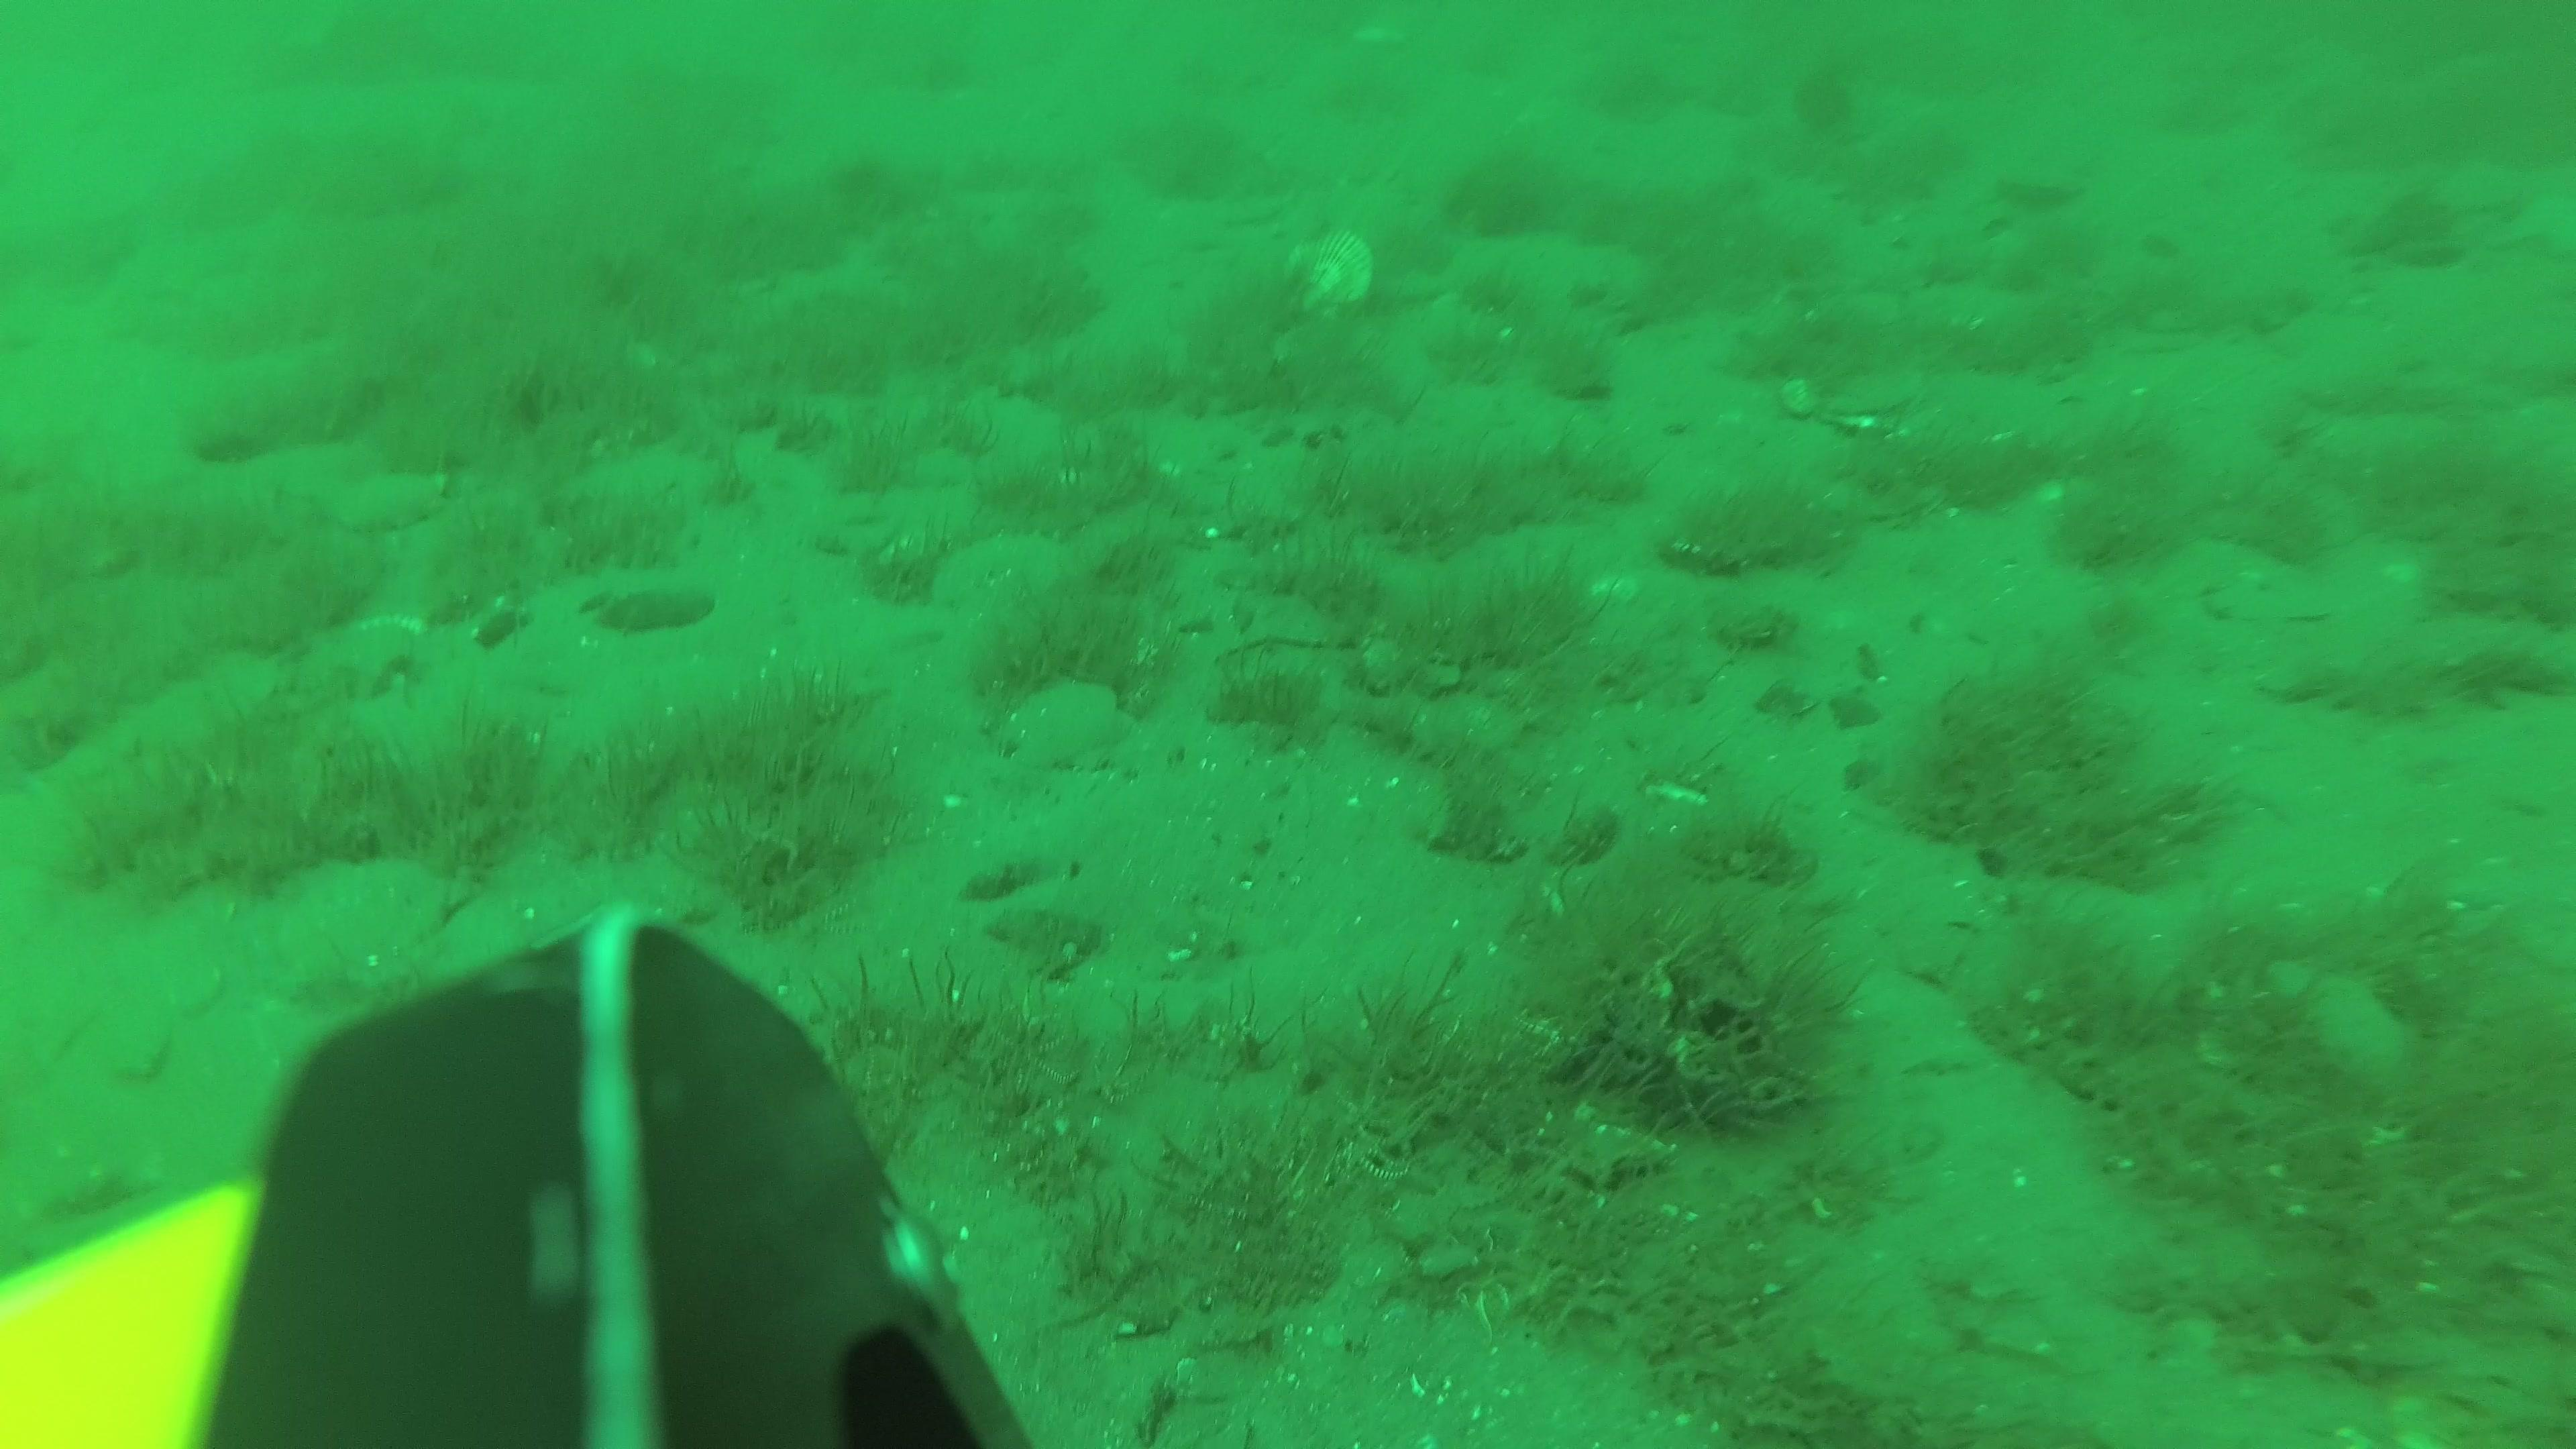scallop: (283, 858, 453, 970), (1787, 366, 1934, 435), (993, 688, 1129, 763), (1283, 235, 1375, 322), (338, 474, 449, 533)
